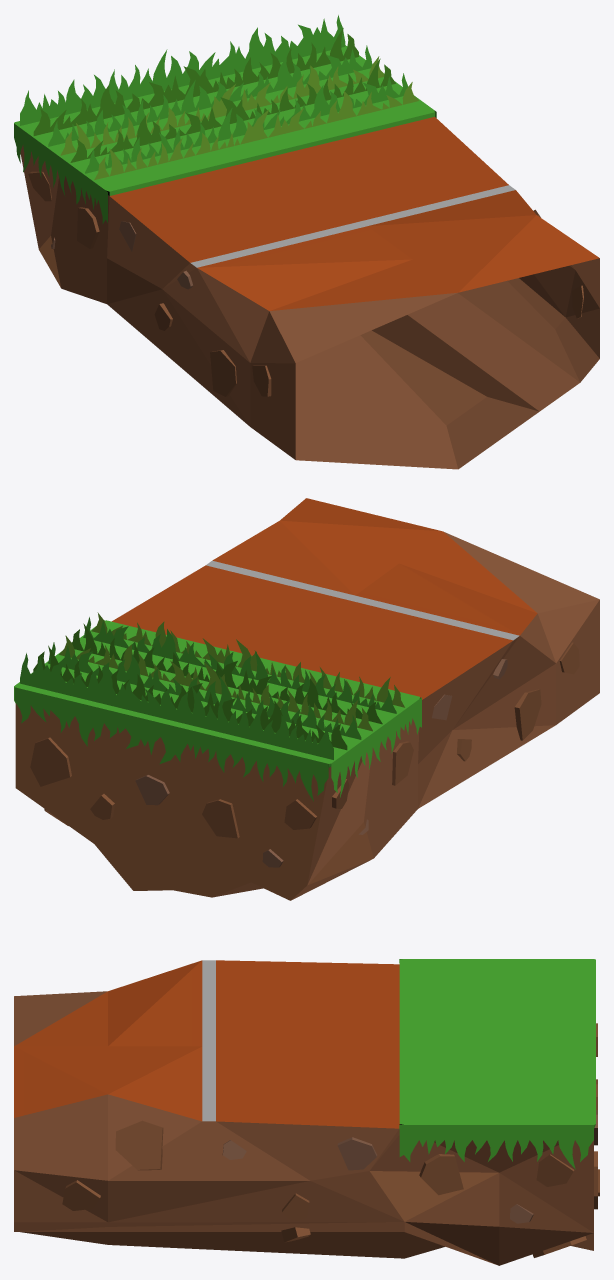
Rendered from platform_01.fbx.
The picture shows the model from 3 angles, top to bottom: view 1: azimuth 30°, elevation 25°; view 2: azimuth 150°, elevation 25°; view 3: azimuth 270°, elevation 25°; orthographic projection. The views are drawn at different scales.
Parts seen in each view (by area): view 1: platform_01, platform_grass_01; view 2: platform_01, platform_grass_01; view 3: platform_01, platform_grass_01.
Part boxes in pixels (x1,y1,x2,y2): platform_01: (14,45,599,469); platform_grass_01: (14,15,436,223); platform_01: (14,498,599,900); platform_grass_01: (14,612,421,801); platform_01: (14,959,599,1265); platform_grass_01: (399,959,593,1169).
Size of the model in its own units: 618 by 390 by 897.
